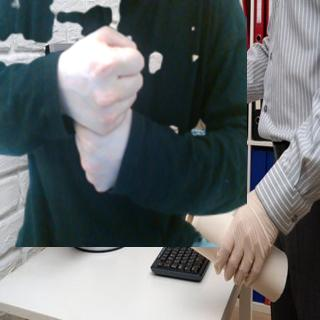CAREFUL: (56, 15, 148, 203)
